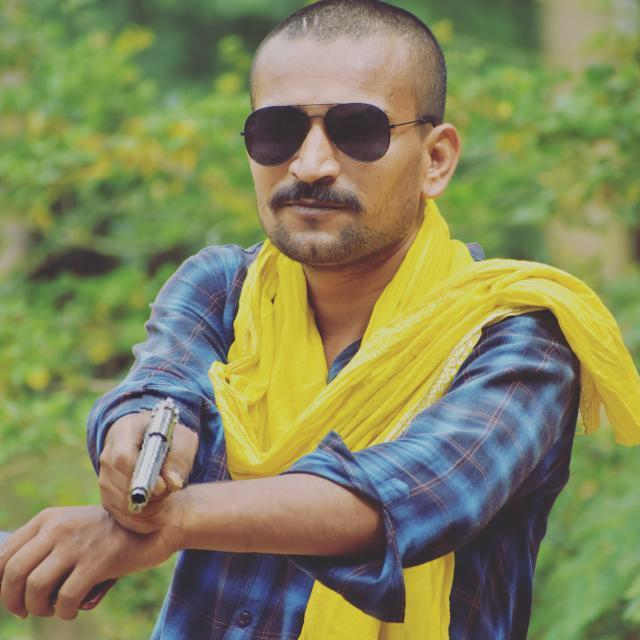handgun: (126, 390, 196, 524)
